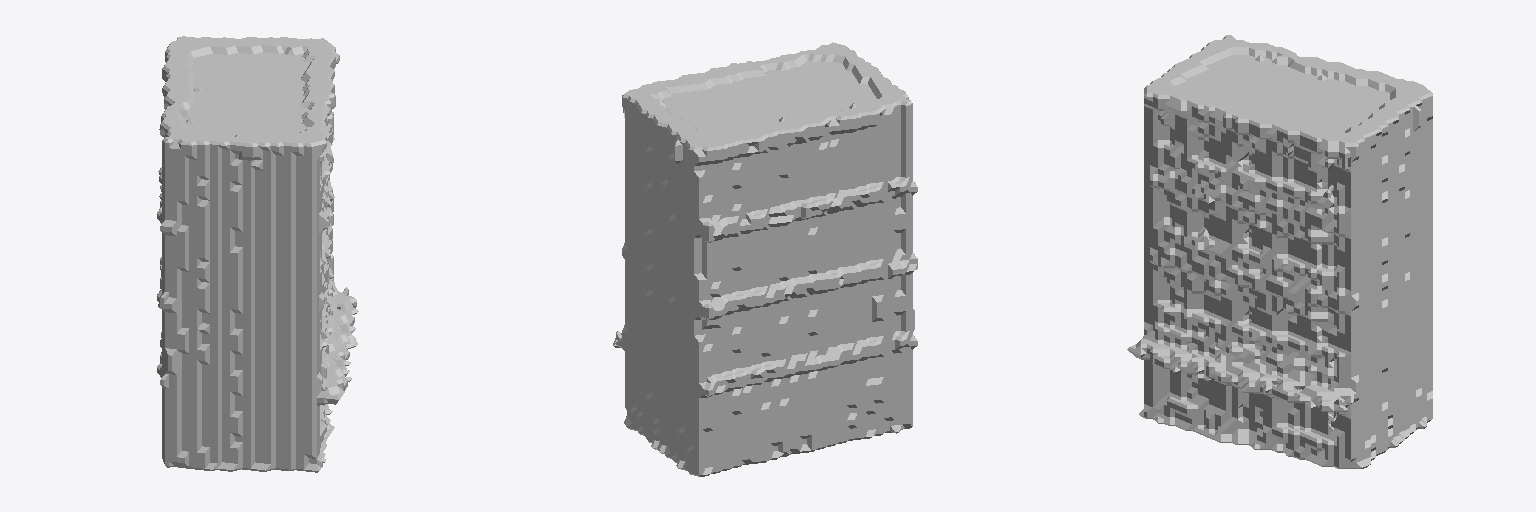
The model's file is gen3_colored.obj.
3 renders of one model, left to right at view 1: azimuth 30°, elevation 25°; view 2: azimuth 150°, elevation 25°; view 3: azimuth 270°, elevation 25°, orthographic.
Visible parts, largest first — view 1: gen3.obj; view 2: gen3.obj; view 3: gen3.obj.
Part boxes in pixels (x1,y1,x2,y2): gen3.obj: (157, 36, 358, 472); gen3.obj: (613, 42, 917, 476); gen3.obj: (1127, 35, 1432, 468).
Size of the model in its own units: 50 by 64 by 54.